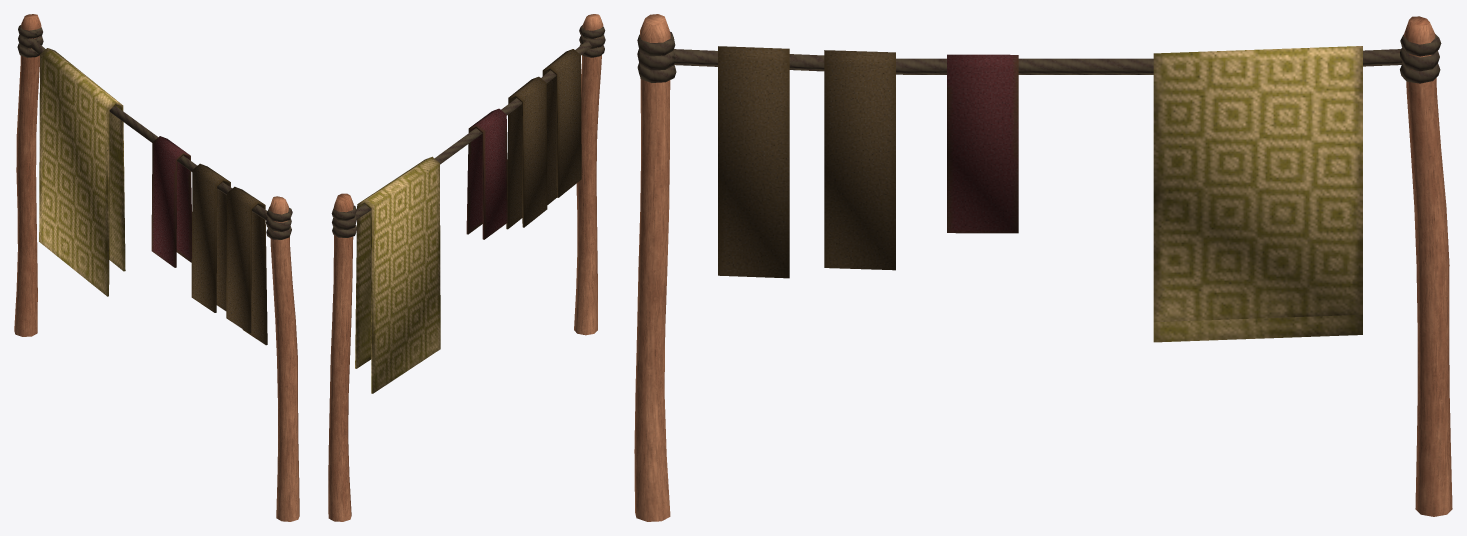
Rendered from Drying line 2.fbx.
3 renders of one model, left to right at view 1: azimuth 30°, elevation 25°; view 2: azimuth 150°, elevation 25°; view 3: azimuth 270°, elevation 25°, orthographic. The views are drawn at different scales.
Visible parts, largest first — view 1: Drying line 2; view 2: Drying line 2; view 3: Drying line 2.
Part boxes in pixels (x1=…): Drying line 2: x1=14, y1=14, x2=299, y2=521; Drying line 2: x1=328, y1=14, x2=605, y2=521; Drying line 2: x1=634, y1=14, x2=1452, y2=521.
Size of the model in its own units: 0.1164 by 1.22 by 1.85.
